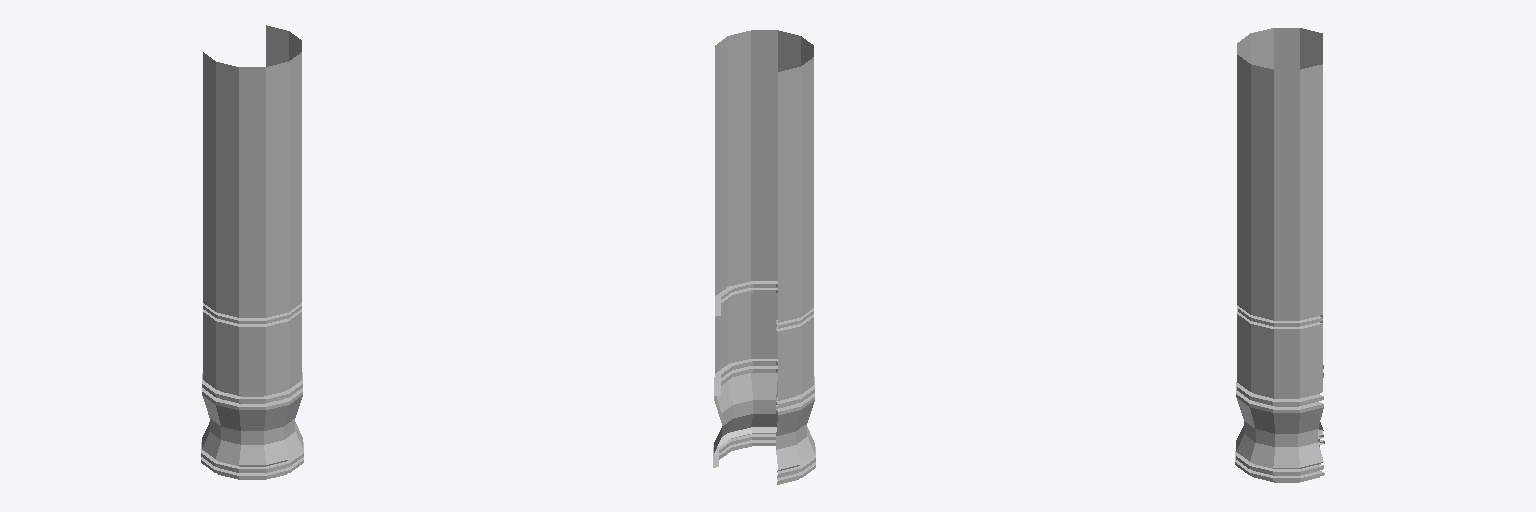
The model's file is colonneExt2.obj.
The picture shows the model from 3 angles: view 1: azimuth 30°, elevation 25°; view 2: azimuth 150°, elevation 25°; view 3: azimuth 270°, elevation 25°; orthographic projection.
Size of the model in its own units: 0.3019 by 1.34 by 0.2615.